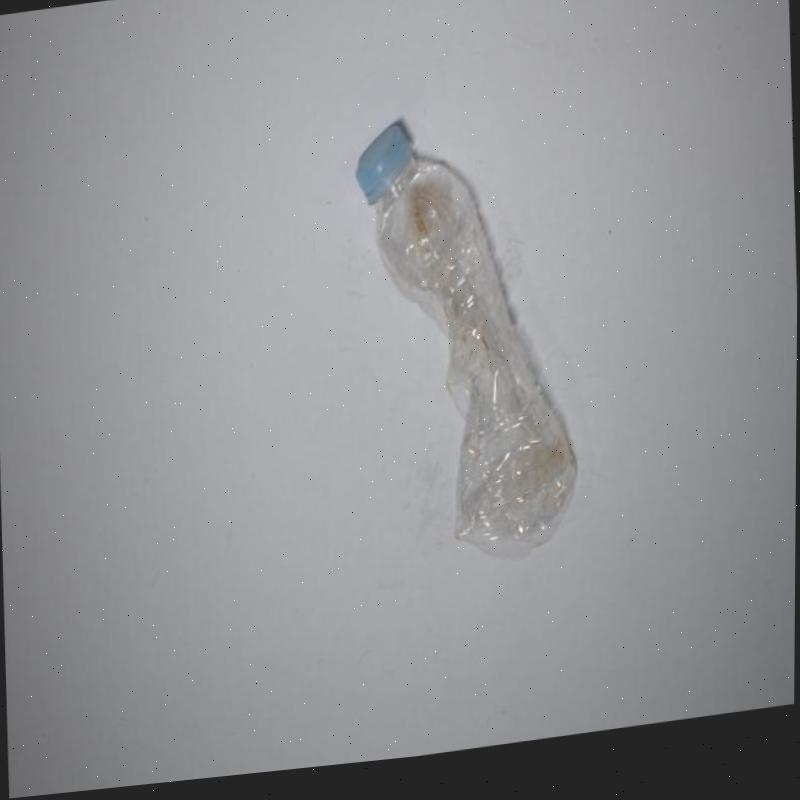botella: (350, 106, 584, 591)
